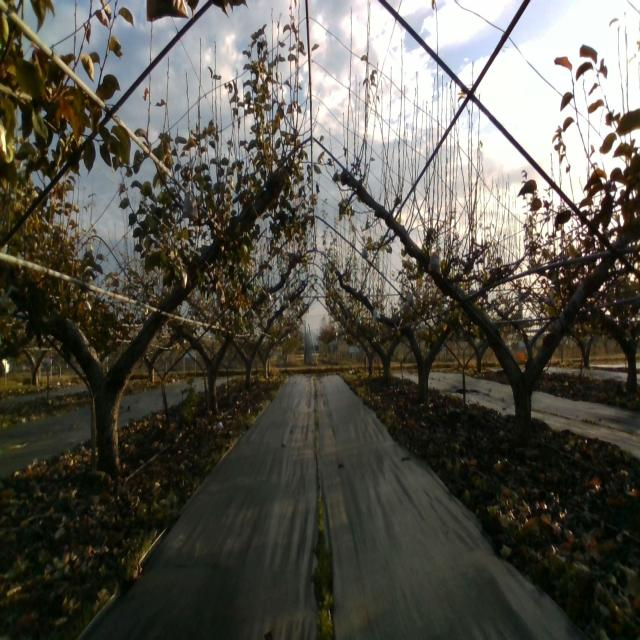pearbags: (182, 186, 199, 223), (428, 252, 440, 275)
